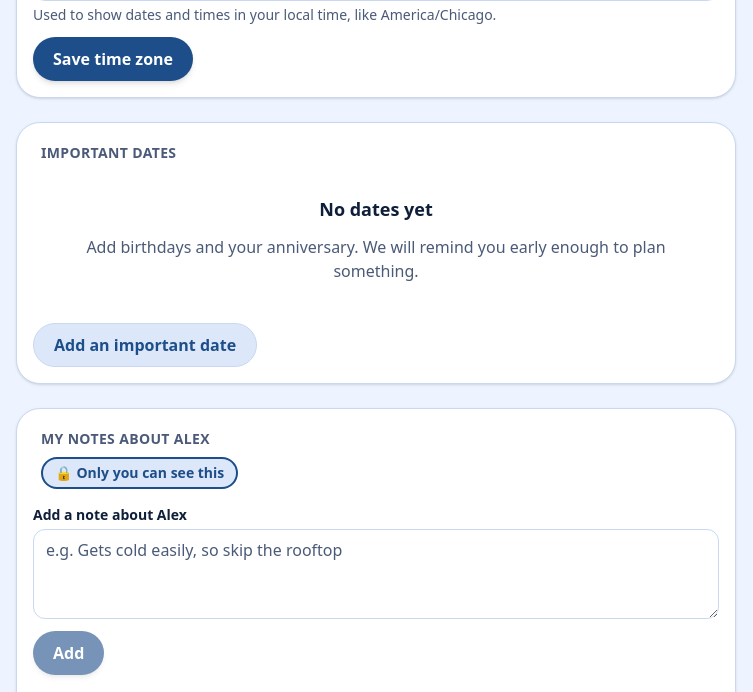
UsPage › adds an important date
The image size is (753, 692).
(page scrolled)
Click the button "Add an important date" at x=145, y=345, box [33, 323, 257, 367]
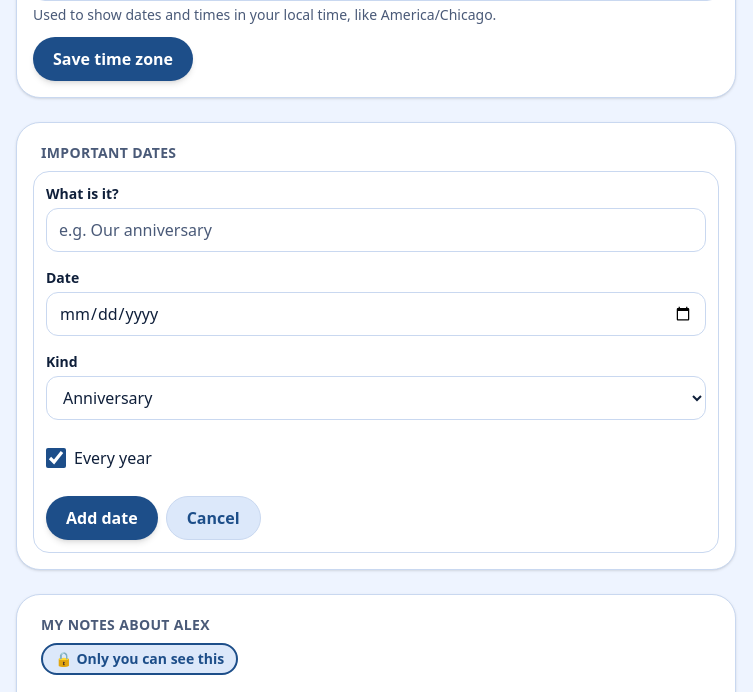
Type "Our anniversary" into the field labelled "What is it?" at x=376, y=230, box [46, 208, 706, 252]
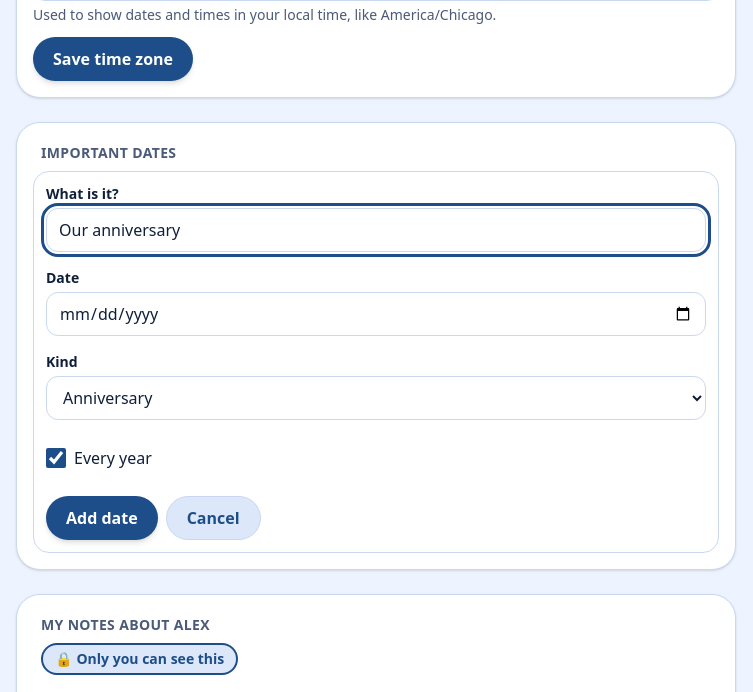
Type "2020-06-01" into the date field labelled "Date" at x=376, y=314, box [46, 292, 706, 336]
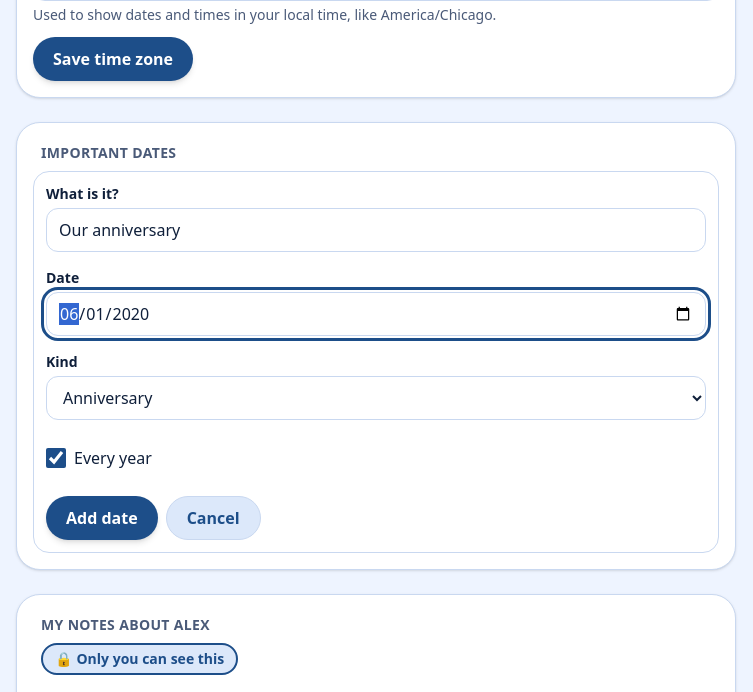
Click the button "Add date" at x=102, y=518, box [46, 496, 158, 540]
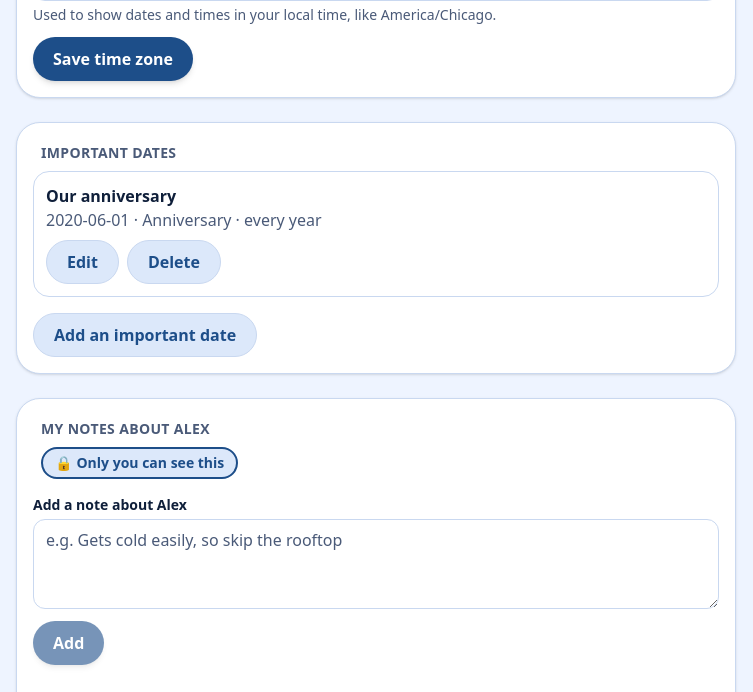
expect the text "Our anniversary" is shown: met, box [46, 185, 176, 207]
